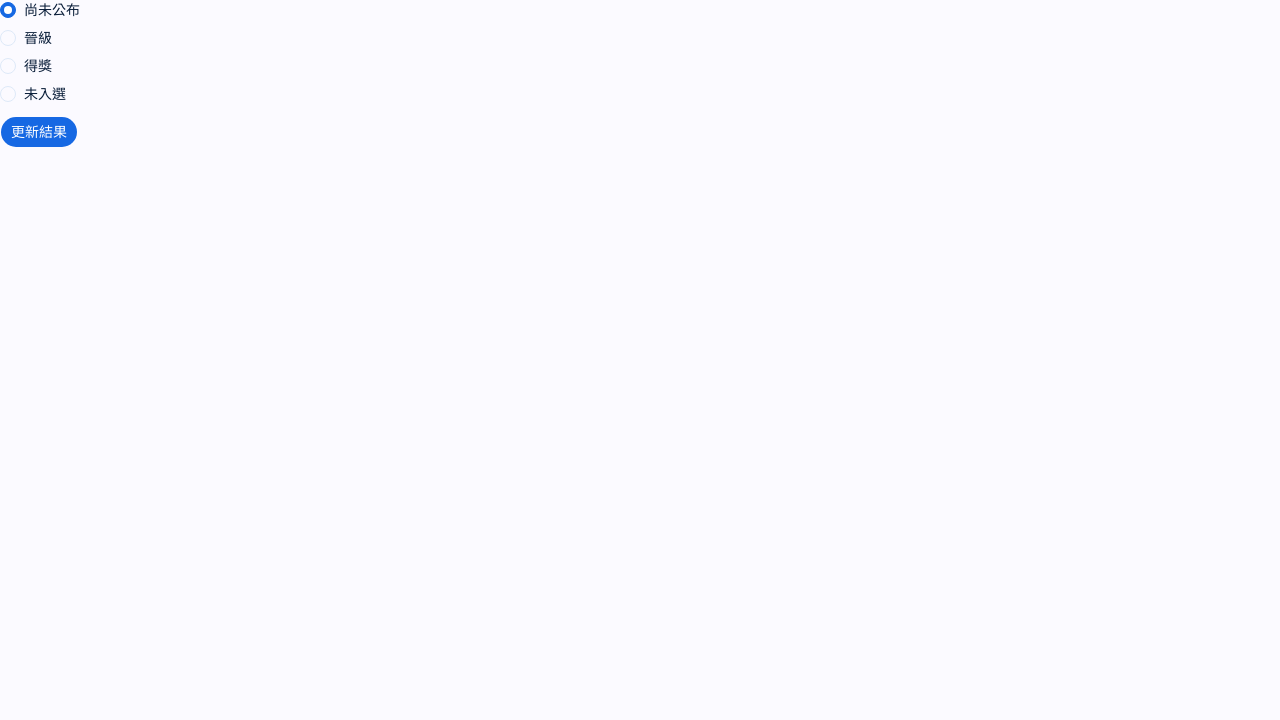
ResultSelect：比賽結果選單與確認對話框 › 確認對話框按再想想：不呼叫 setResult，對話框關閉
Click the radio button "未入選": coordinates (33, 94) [0,86,66,102]
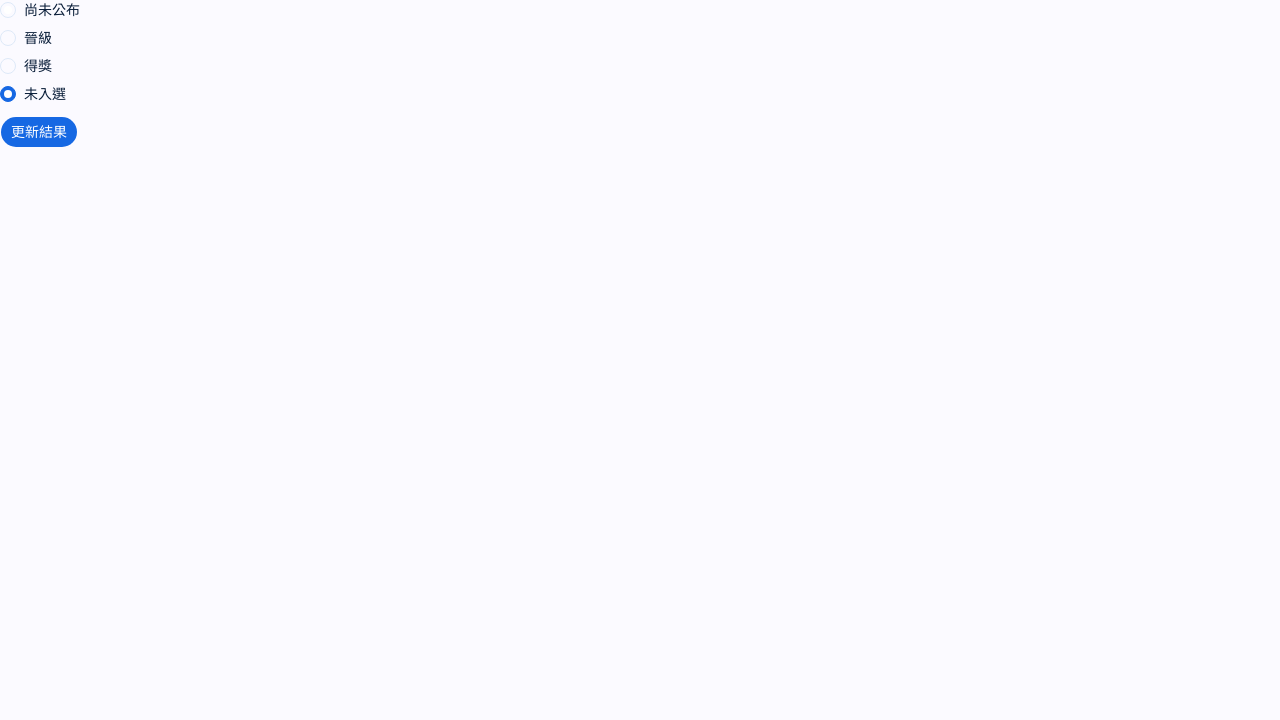
Click the button "更新結果": coordinates (39, 132) [0,116,78,148]
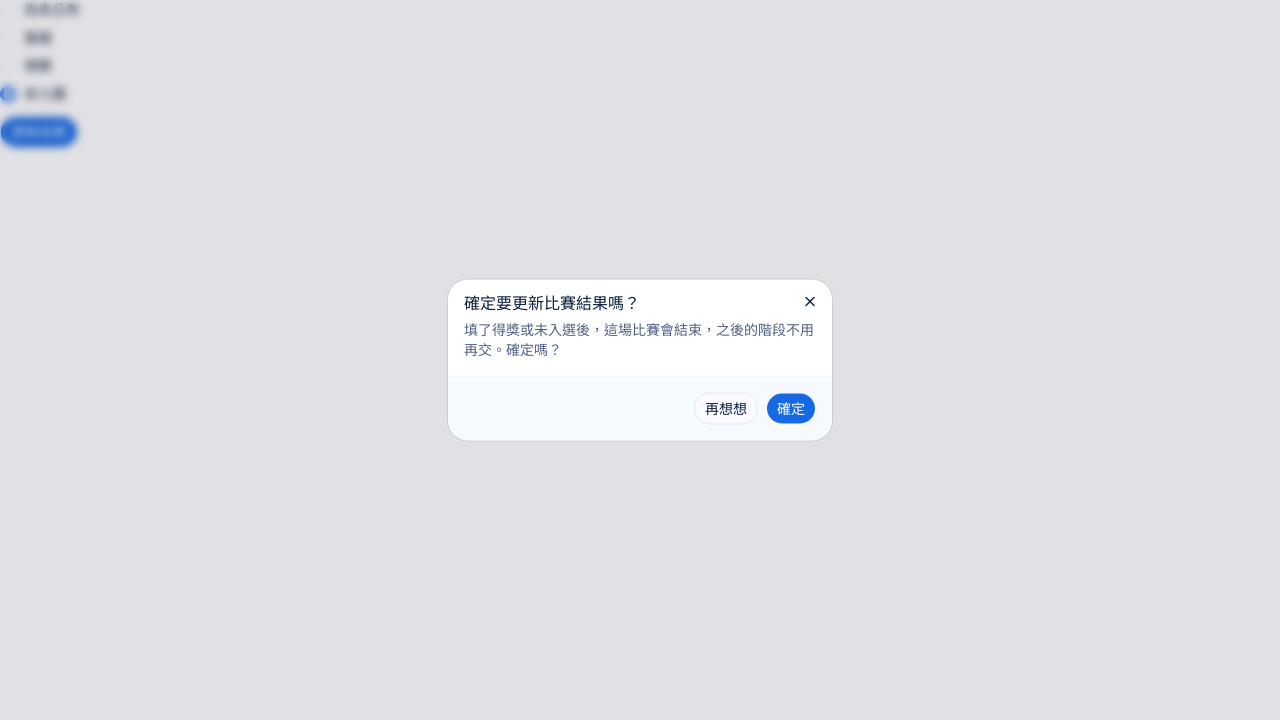
Check: the button "再想想" is shown
Click the button "再想想": coordinates (726, 408) [694,392,758,424]
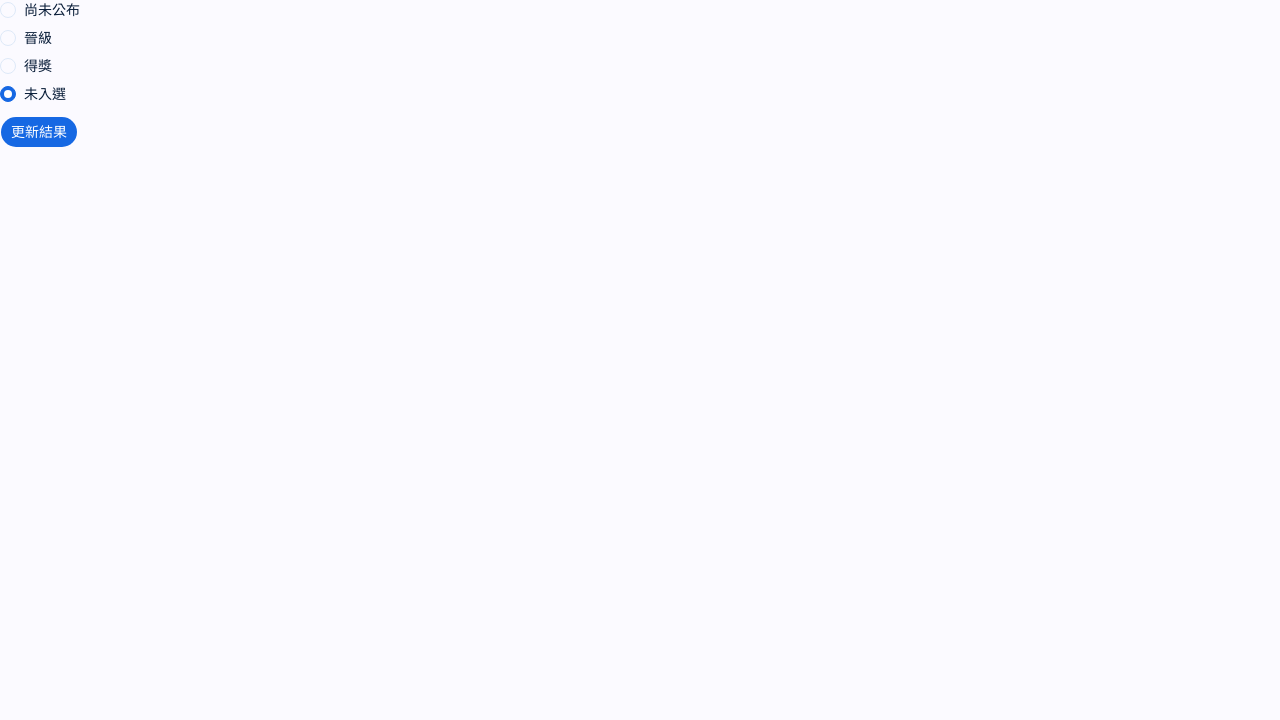
Check: the text "這場比賽會結束" is gone
